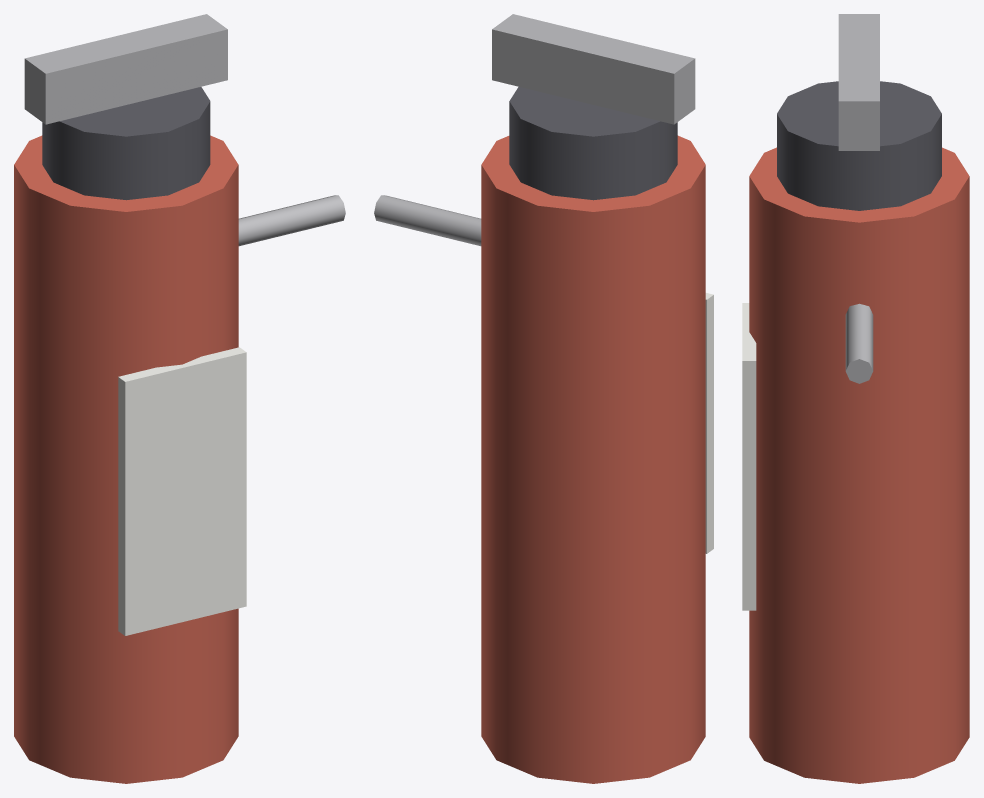
The model's file is fire_extinguisher.glb.
3 views of the same model, side by side, from view 1: azimuth 30°, elevation 25°; view 2: azimuth 150°, elevation 25°; view 3: azimuth 270°, elevation 25° (orthographic).
Visible parts, largest first — view 1: body, label, top, handle, nozzle; view 2: body, top, handle, nozzle, label; view 3: body, top, handle, label, nozzle.
Boxes of the visible parts, bbox=[...] form: body: bbox=[14, 135, 238, 783]; label: bbox=[118, 347, 246, 635]; top: bbox=[42, 87, 210, 200]; handle: bbox=[24, 14, 227, 124]; nozzle: bbox=[238, 195, 345, 246]; body: bbox=[481, 135, 705, 783]; top: bbox=[509, 87, 677, 200]; handle: bbox=[492, 14, 695, 124]; nozzle: bbox=[374, 195, 481, 246]; label: bbox=[705, 293, 713, 553]; body: bbox=[749, 147, 969, 783]; top: bbox=[777, 81, 941, 210]; handle: bbox=[838, 14, 879, 150]; label: bbox=[742, 303, 756, 610]; nozzle: bbox=[845, 303, 873, 383].
Size of the model in its own units: 0.255 by 0.545 by 0.165.
